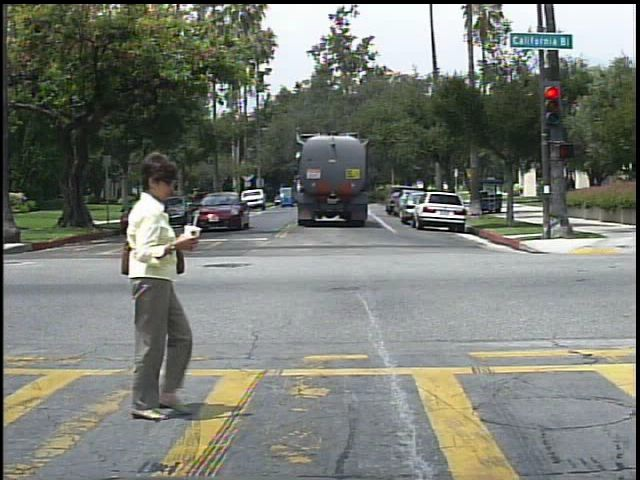person: (96, 151, 216, 423), (564, 172, 582, 205), (516, 181, 529, 200)
